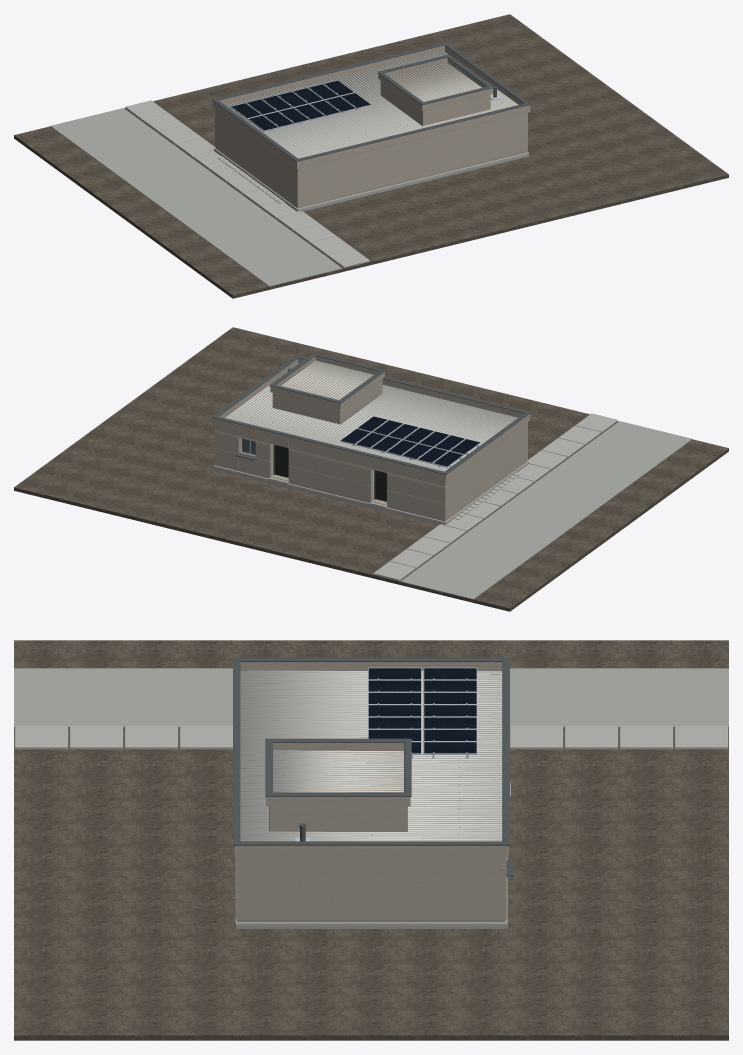
The model's file is residential.glb.
3 renders of one model, top to bottom at view 1: azimuth 30°, elevation 25°; view 2: azimuth 150°, elevation 25°; view 3: azimuth 270°, elevation 25°, orthographic. The views are drawn at different scales.
Visible parts, largest first — view 1: Architecture; view 2: Architecture; view 3: Architecture, Aluminum long frame.026, Aluminum long frame.018, Aluminum long frame.024, Aluminum long frame.014, Aluminum long frame.020, Aluminum long frame.016, Aluminum long frame.022, Aluminum long frame.002, Aluminum long frame.008, Aluminum long frame.004, Aluminum long frame (+1 smaller).
Part boxes in pixels (bbox=[...]): Architecture: bbox=[14, 14, 728, 298]; Architecture: bbox=[14, 327, 728, 611]; Architecture: bbox=[14, 640, 728, 1040]; Aluminum long frame.026: bbox=[423, 740, 477, 754]; Aluminum long frame.018: bbox=[423, 691, 477, 704]; Aluminum long frame.024: bbox=[423, 728, 477, 741]; Aluminum long frame.014: bbox=[423, 666, 477, 679]; Aluminum long frame.020: bbox=[423, 703, 477, 716]; Aluminum long frame.016: bbox=[423, 679, 477, 692]; Aluminum long frame.022: bbox=[423, 716, 477, 729]; Aluminum long frame.002: bbox=[368, 679, 421, 692]; Aluminum long frame.008: bbox=[368, 716, 421, 729]; Aluminum long frame.004: bbox=[368, 691, 421, 704]; Aluminum long frame: bbox=[368, 666, 421, 679].
Size of the model in its own units: 34 by 4.77 by 26.
11 materials, 3 textured.
